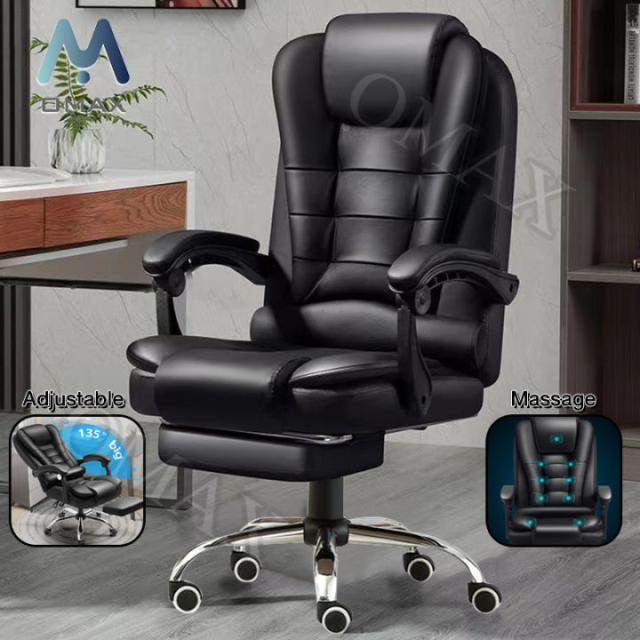chair: (125, 11, 520, 634), (12, 422, 122, 543)
